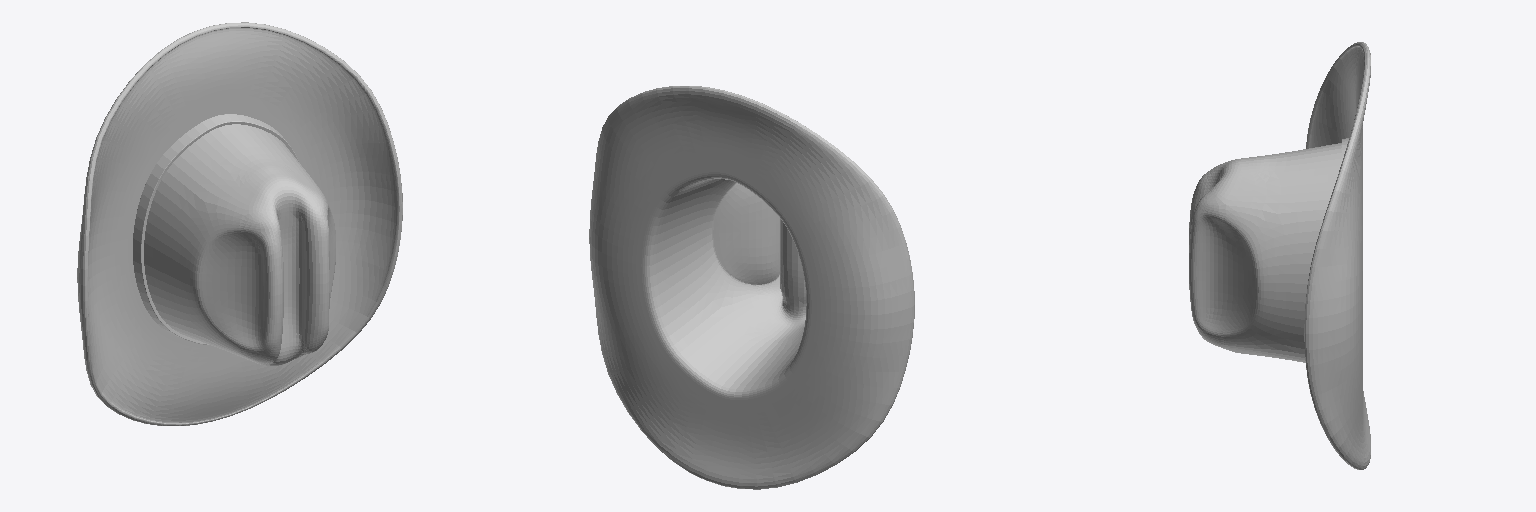
Rendered from Cowboy_Hat.obj.
3 views of the same model, side by side, from view 1: azimuth 30°, elevation 25°; view 2: azimuth 150°, elevation 25°; view 3: azimuth 270°, elevation 25° (orthographic).
Parts seen in each view (by area): view 1: 18456_Cowboy_Hat; view 2: 18456_Cowboy_Hat; view 3: 18456_Cowboy_Hat.
Part boxes in pixels (left/top/right/bottom): 18456_Cowboy_Hat: left=77, top=22, right=402, bottom=425; 18456_Cowboy_Hat: left=589, top=86, right=914, bottom=489; 18456_Cowboy_Hat: left=1189, top=42, right=1370, bottom=469.
Bounding box in the file's own units: 39.04 × 45.92 × 19.23.